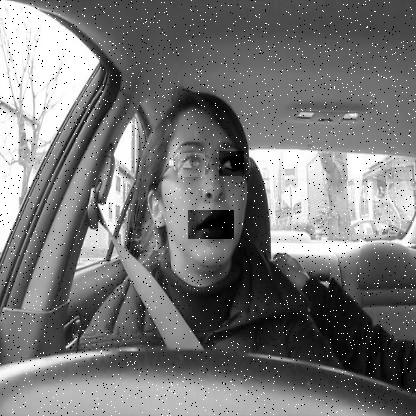seatbelt: (124, 71, 262, 349)
